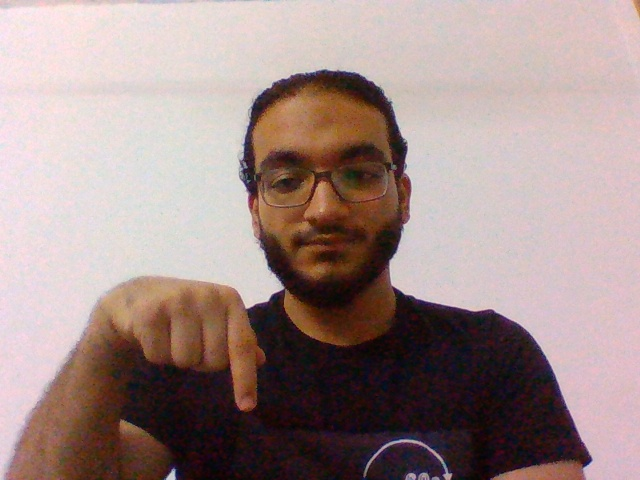Yes: (99, 257, 279, 411)
